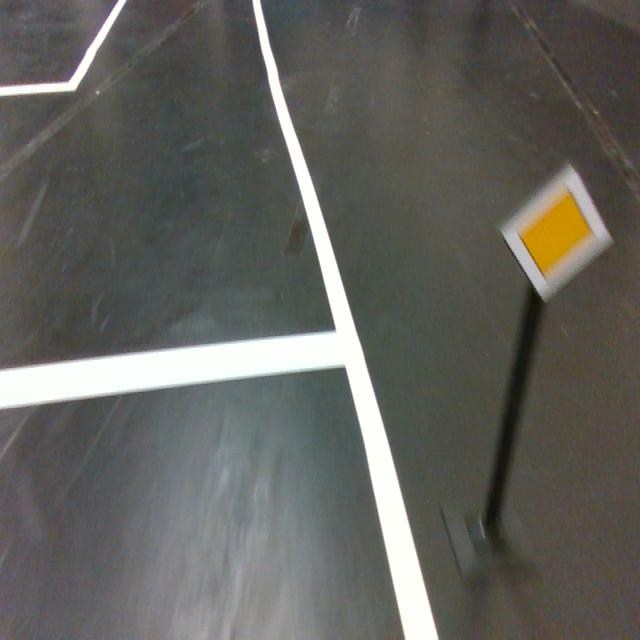priority-sign: (498, 157, 616, 305)
